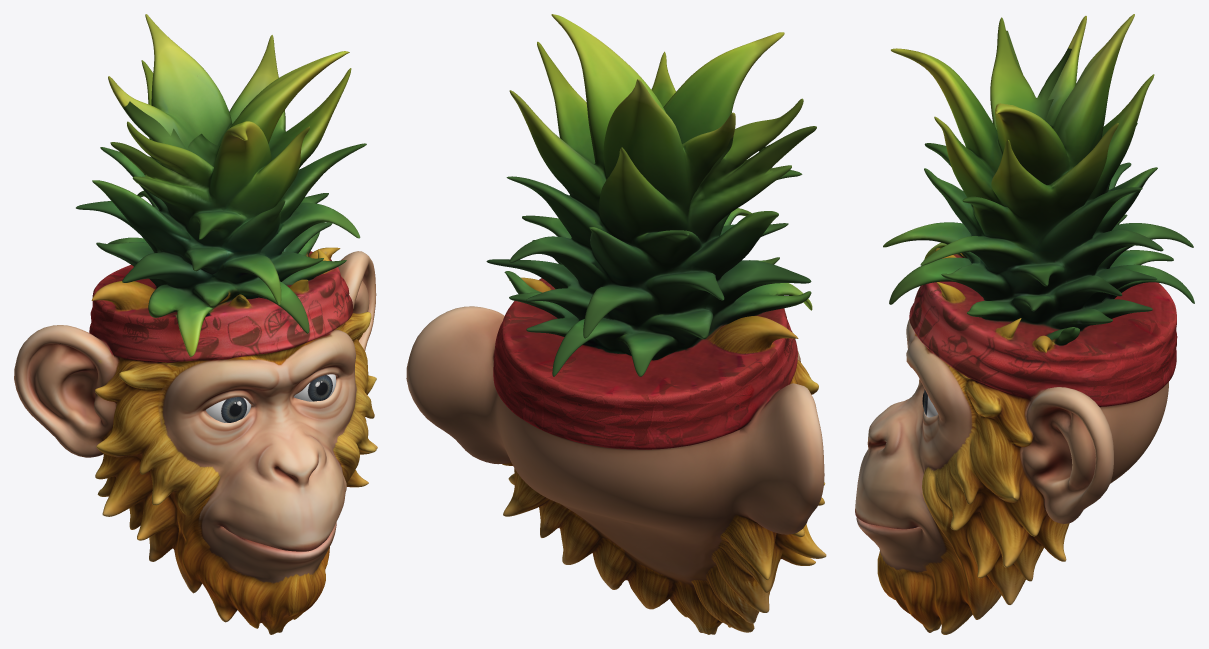
Rendered from Ape_2.glb.
3 views of the same model, side by side, from view 1: azimuth 30°, elevation 25°; view 2: azimuth 150°, elevation 25°; view 3: azimuth 270°, elevation 25° (orthographic). The views are drawn at different scales.
Visible parts, largest first — view 1: Body, Eyes; view 2: Body; view 3: Body.
Boxes of the visible parts, x1,y1,x2,y2 form: Body: (14,14,377,634); Eyes: (205,374,336,422); Body: (406,14,826,634); Body: (855,14,1194,634).
Size of the model in its own units: 0.6729 by 1 by 0.5147.
Materials: 2 (2 with a texture image).
